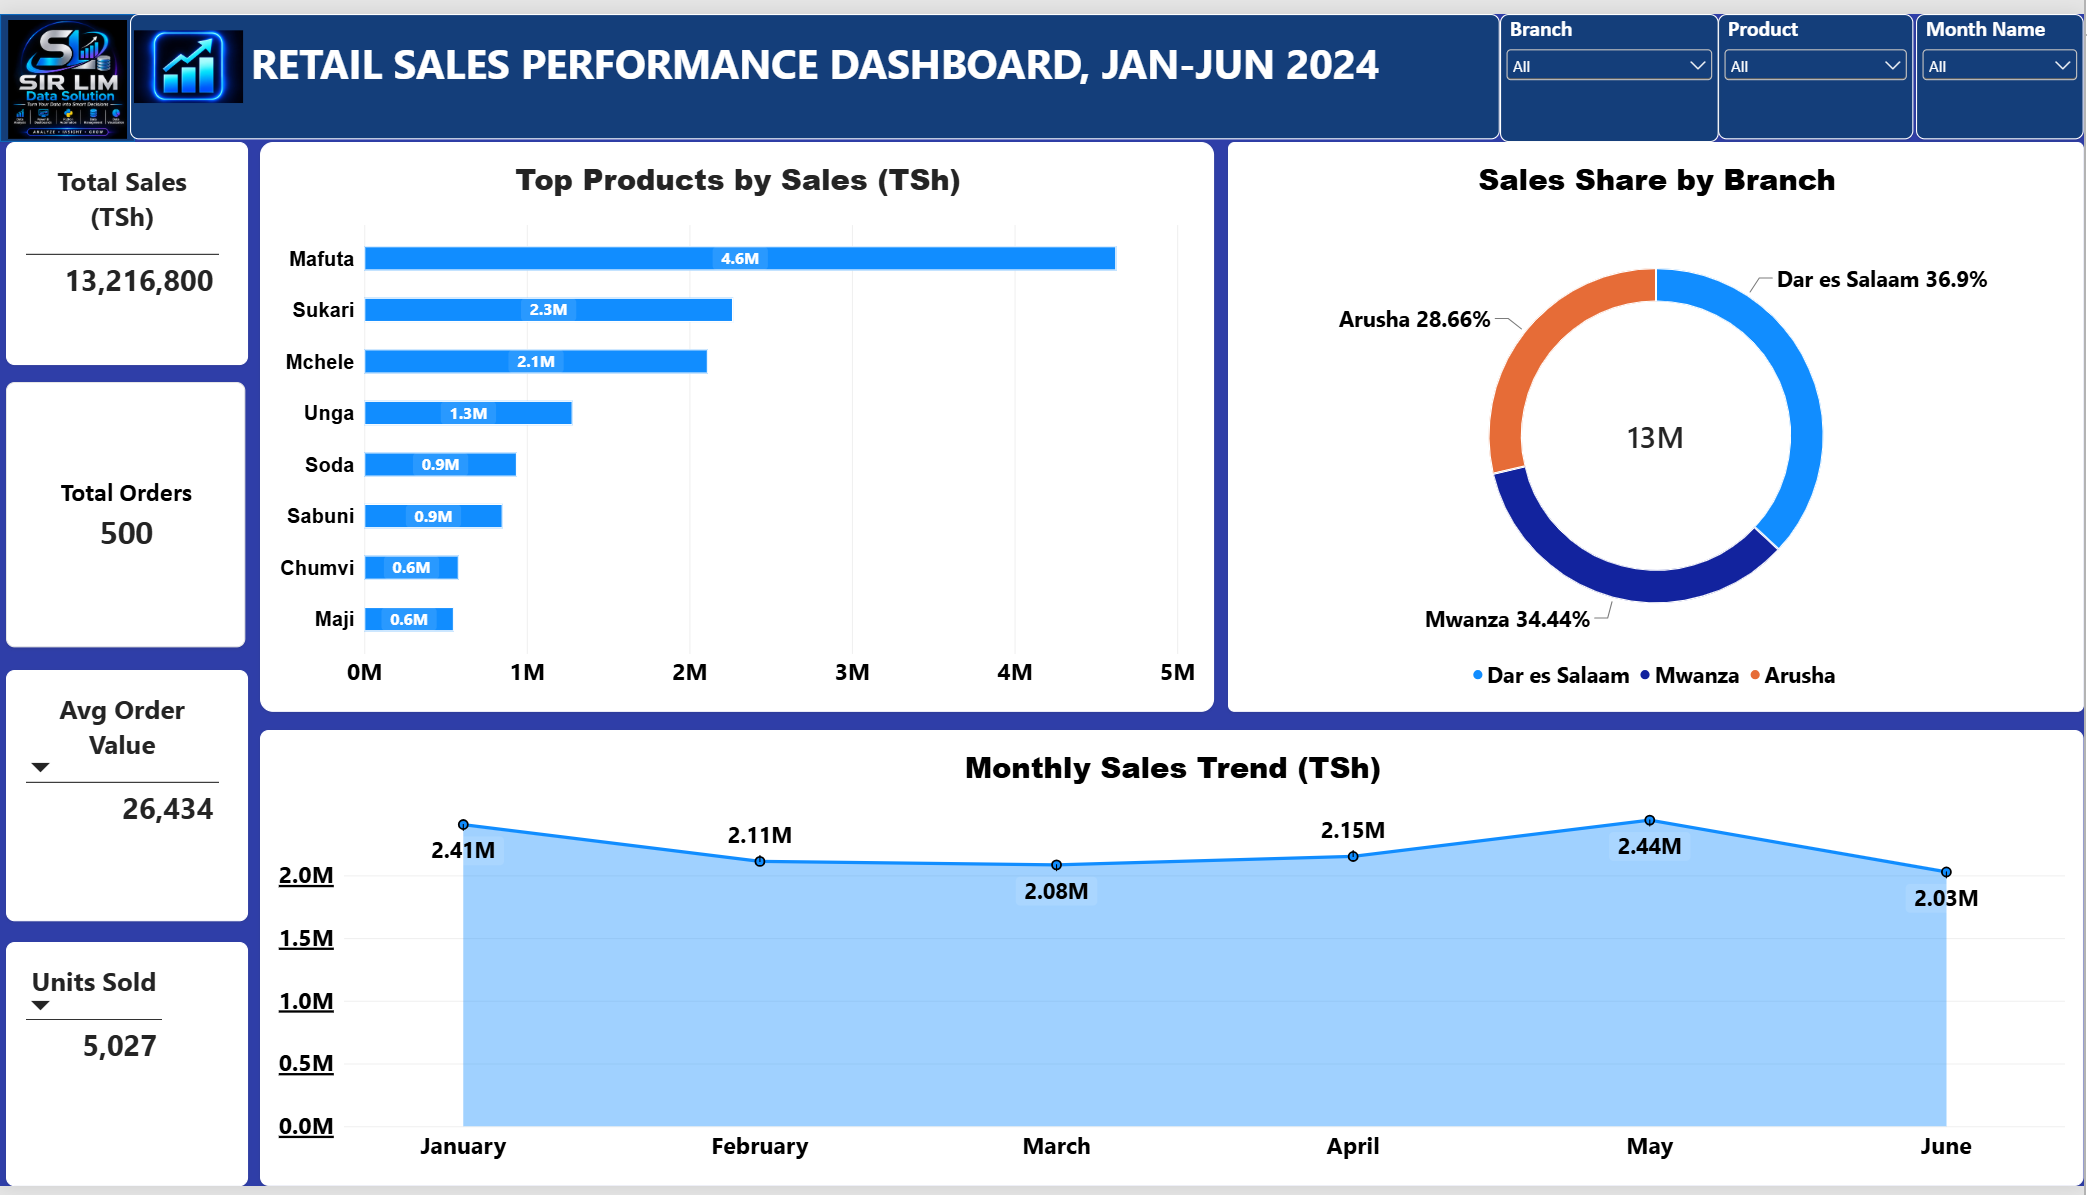

The page's visual inventory and layout, read from the dashboard file:
{"tool":"powerbi","page":{"name":"Page 1","canvas":[1920,1080],"ordinal":0},"visuals":[{"type":"shape","box":[0,0,124.3,117.9],"z":0},{"type":"image","box":[6.4,6.4,113.6,109.3],"z":1000},{"type":"textbox","box":[120,0,1262.1,115.7],"z":2000},{"type":"image","box":[124.3,6.4,100.7,85.7],"z":3000},{"type":"slicer","fields":{"Values":["Sheet1.Month Name"]},"box":[1765.7,0,154.3,115.7],"z":4000},{"type":"slicer","fields":{"Values":["Sheet1.Product"]},"box":[1583.6,0,180,115.7],"z":5000},{"type":"slicer","fields":{"Values":["Sheet1.Branch"]},"box":[1382.1,0,201.4,117.9],"z":6000},{"type":"cardVisual","fields":{"Data":["Sheet1.Total Orders"]},"box":[6.4,338.6,220.7,244.3],"z":7000},{"type":"tableEx","fields":{"Values":["Sheet1.Unit Sold Full"]},"box":[6.4,855,222.9,225],"z":8000},{"type":"clusteredBarChart","title":"Top Products by Sales (TSh)","fields":{"Category":["Sheet1.Product"],"Y":["Sum(Sheet1.Total Sales)"]},"box":[240,117.9,878.9,525.1],"z":9000},{"type":"donutChart","title":"Sales Share by Branch","fields":{"Category":["Sheet1.Branch"],"Y":["Sum(Sheet1.Total Sales)"]},"box":[1131.4,117.9,788.6,525.1],"z":10000},{"type":"lineChart","title":"Monthly Sales Trend (TSh)","fields":{"Category":["Sheet1.Month Name"],"Y":["Sum(Sheet1.Total Sales)"]},"box":[240,660,1680,420],"z":11000},{"type":"tableEx","fields":{"Values":["Sheet1.Total Sales Full"]},"box":[6.4,117.9,222.9,205.7],"z":12000},{"type":"tableEx","fields":{"Values":["Sheet1.Avg Order Value"]},"box":[6.4,604.3,222.9,231.4],"z":13000}]}

Visuals, with their boxes in screenshot pixels (x1, y1, x2, y2), scaled from the page's 1920x1080 canvas onto the 2087x1195 screenshot:
shape: rect(0, 0, 135, 130)
image: rect(7, 7, 130, 128)
textbox: rect(130, 0, 1502, 128)
image: rect(135, 7, 245, 102)
slicer - Sheet1.Month Name: rect(1919, 0, 2086, 128)
slicer - Sheet1.Product: rect(1721, 0, 1917, 128)
slicer - Sheet1.Branch: rect(1502, 0, 1721, 130)
cardVisual - Sheet1.Total Orders: rect(7, 375, 247, 645)
tableEx - Sheet1.Unit Sold Full: rect(7, 946, 249, 1194)
"Top Products by Sales (TSh)" clusteredBarChart: rect(261, 130, 1216, 711)
"Sales Share by Branch" donutChart: rect(1230, 130, 2086, 711)
"Monthly Sales Trend (TSh)" lineChart: rect(261, 730, 2086, 1194)
tableEx - Sheet1.Total Sales Full: rect(7, 130, 249, 358)
tableEx - Sheet1.Avg Order Value: rect(7, 669, 249, 925)
